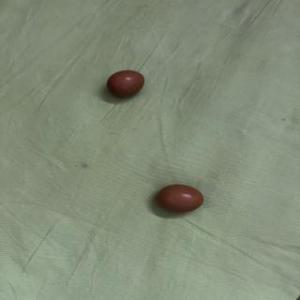egg: (154, 181, 205, 213), (105, 68, 146, 98)
